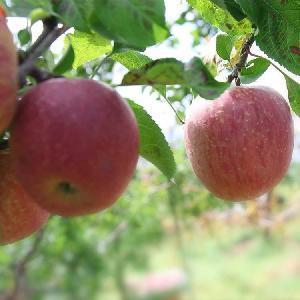apple: (11, 78, 140, 215), (185, 85, 293, 202)
